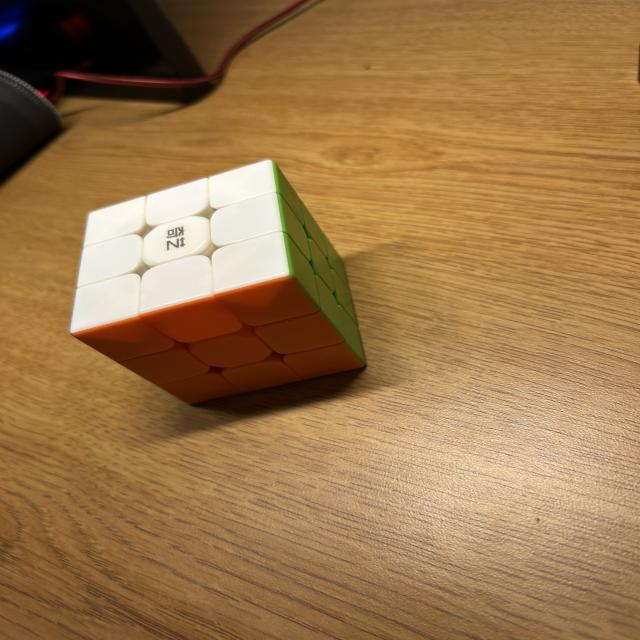Rubiks Cube: (71, 158, 365, 402)
